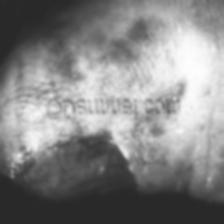Toxin: (17, 138, 136, 201)
